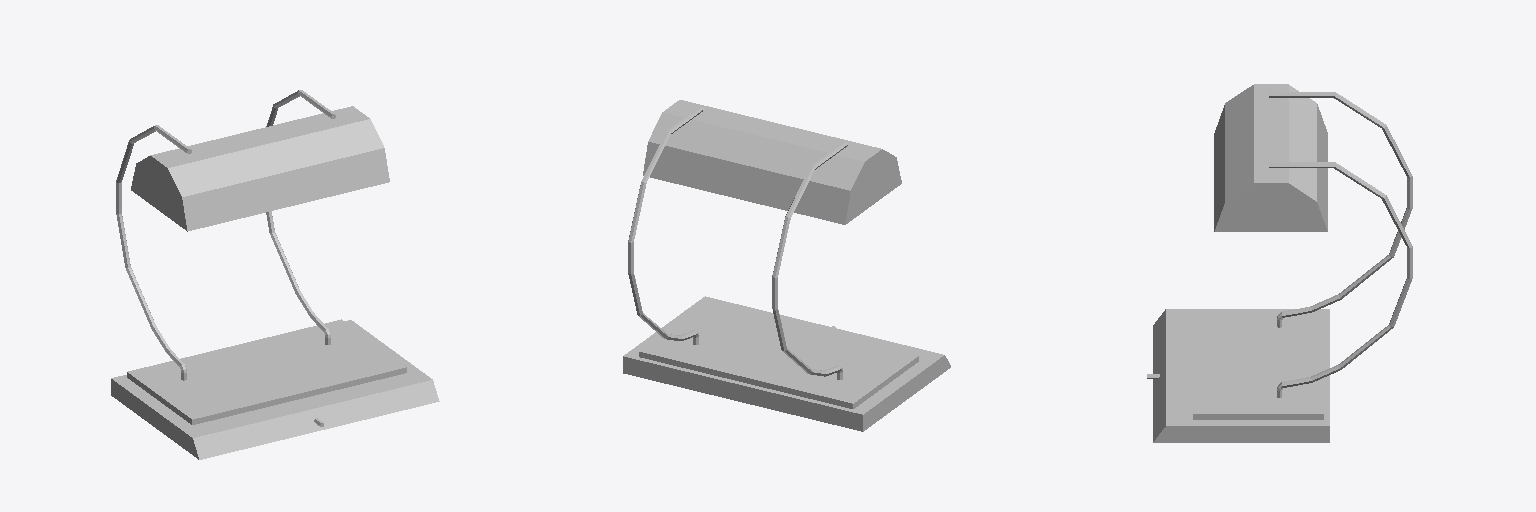
File: 03NewLamp.obj
3 views of the same model, side by side, from view 1: azimuth 30°, elevation 25°; view 2: azimuth 150°, elevation 25°; view 3: azimuth 270°, elevation 25° (orthographic).
Parts seen in each view (by area): view 1: polySurface5 polySurface3 DeskLampMesh, polySurface4; view 2: polySurface5 polySurface3 DeskLampMesh, polySurface4; view 3: polySurface5 polySurface3 DeskLampMesh, polySurface4.
Boxes of the visible parts, x1=… form: polySurface5 polySurface3 DeskLampMesh: x1=111, y1=106, x2=439, y2=459; polySurface4: x1=116, y1=90, x2=335, y2=426; polySurface5 polySurface3 DeskLampMesh: x1=623, y1=100, x2=950, y2=431; polySurface4: x1=628, y1=106, x2=847, y2=379; polySurface5 polySurface3 DeskLampMesh: x1=1153, y1=84, x2=1329, y2=442; polySurface4: x1=1147, y1=92, x2=1412, y2=397.
Size of the model in its own units: 1 by 1.02 by 0.9558.